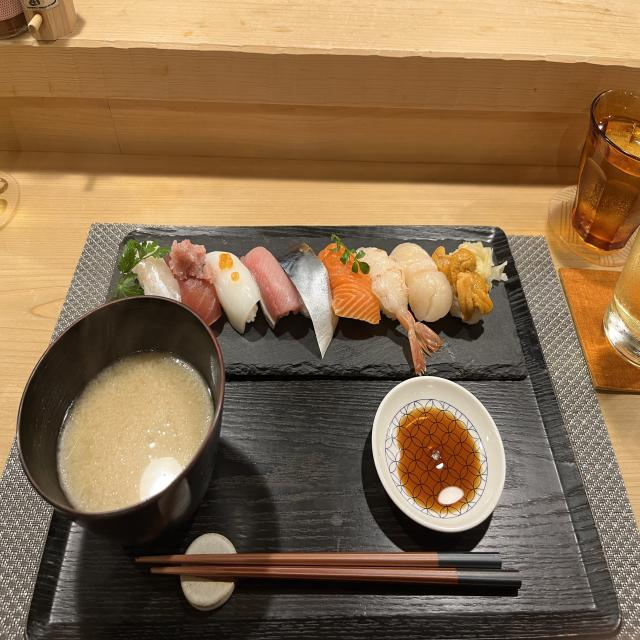Bowl: (16, 294, 225, 546)
Cup: (570, 88, 640, 252), (602, 225, 640, 368)
Plate: (114, 238, 622, 629), (371, 375, 506, 533)
